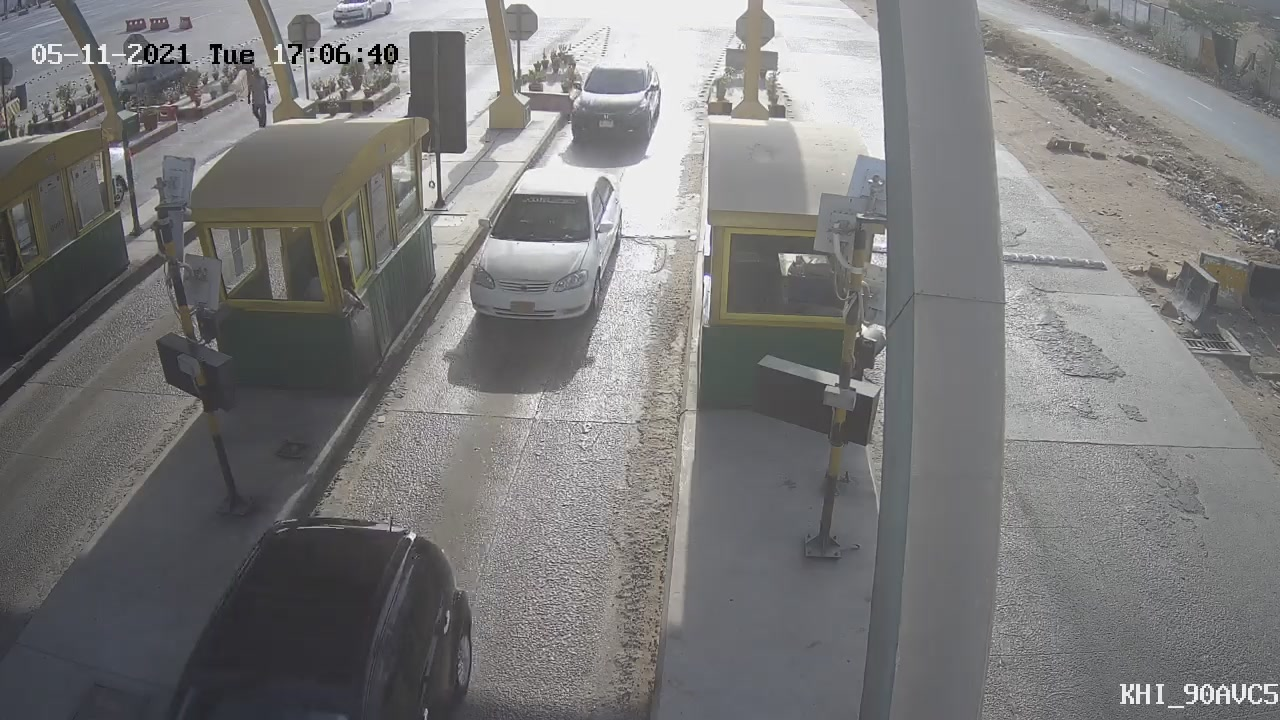F1: (447, 149, 643, 348), (544, 40, 686, 166)
